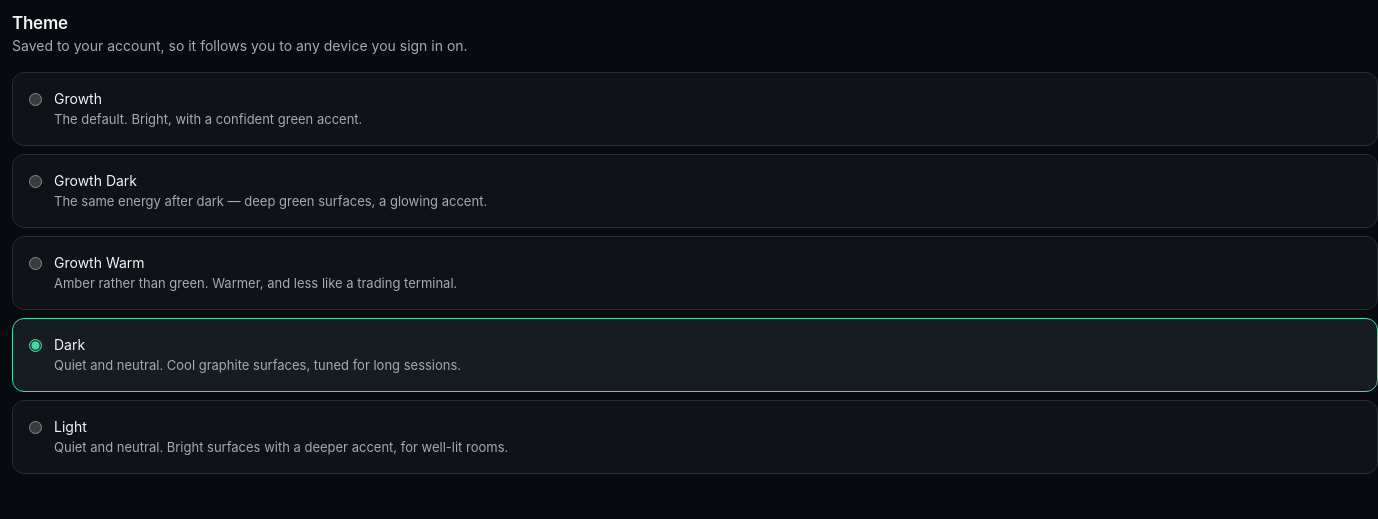
Scenario: theme chooser › ⚠️ REVERTS and says so when the save fails
Click the 5th radio button. click: (36, 427)
box: [29,421,42,434]
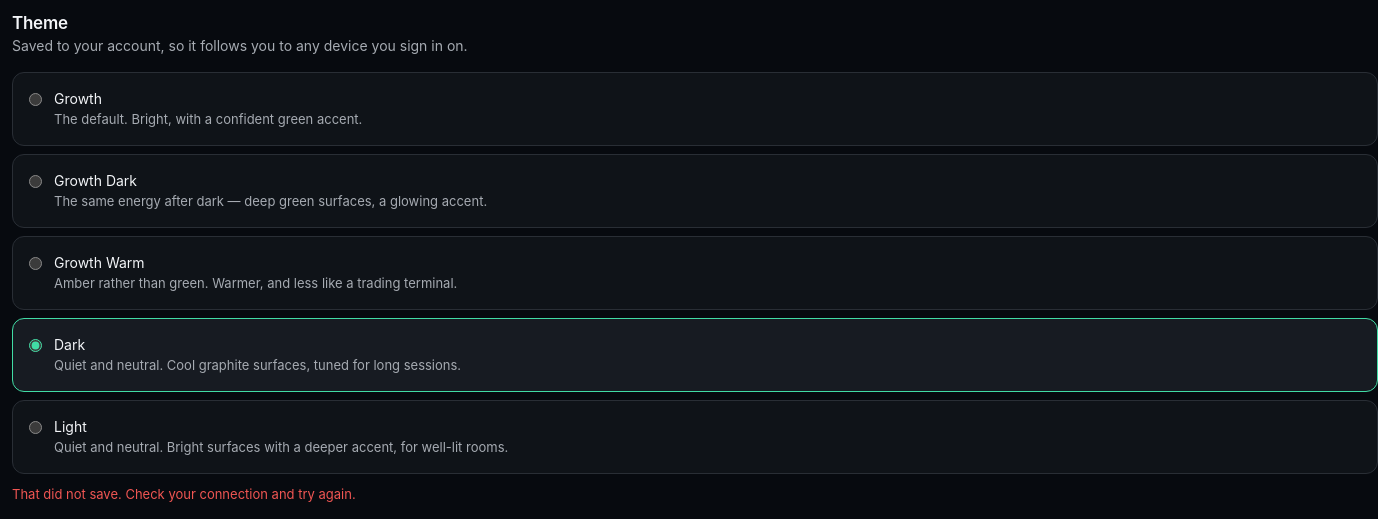
Check: the 4th radio button is checked, box [29,339,42,352]
Check: the message "That did not save. Check your connection and try again." is shown, box [12,486,356,502]
